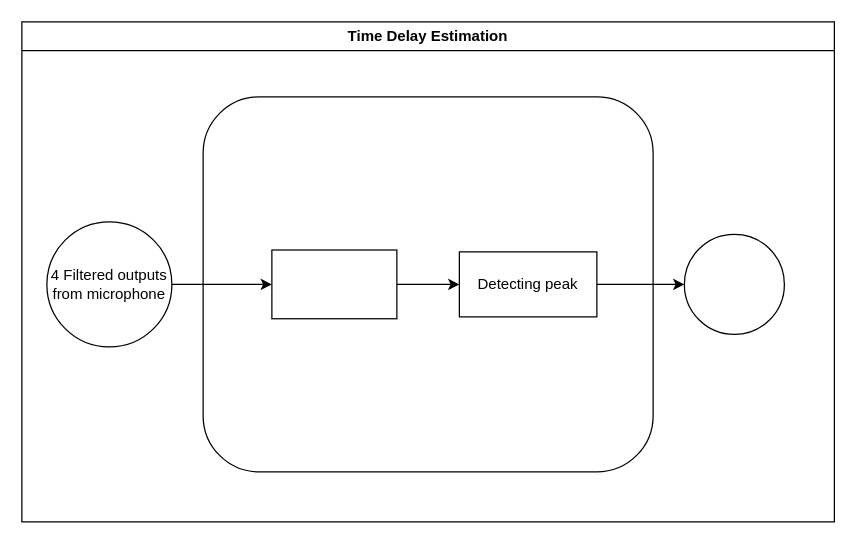
This 856x544 diagram has some shape labels left out. Here are the shapes that lost their labels. From the top down, the centre of each, then its label:
point 334,284: Cross correlation
point 733,283: 6 Estimated time delays
